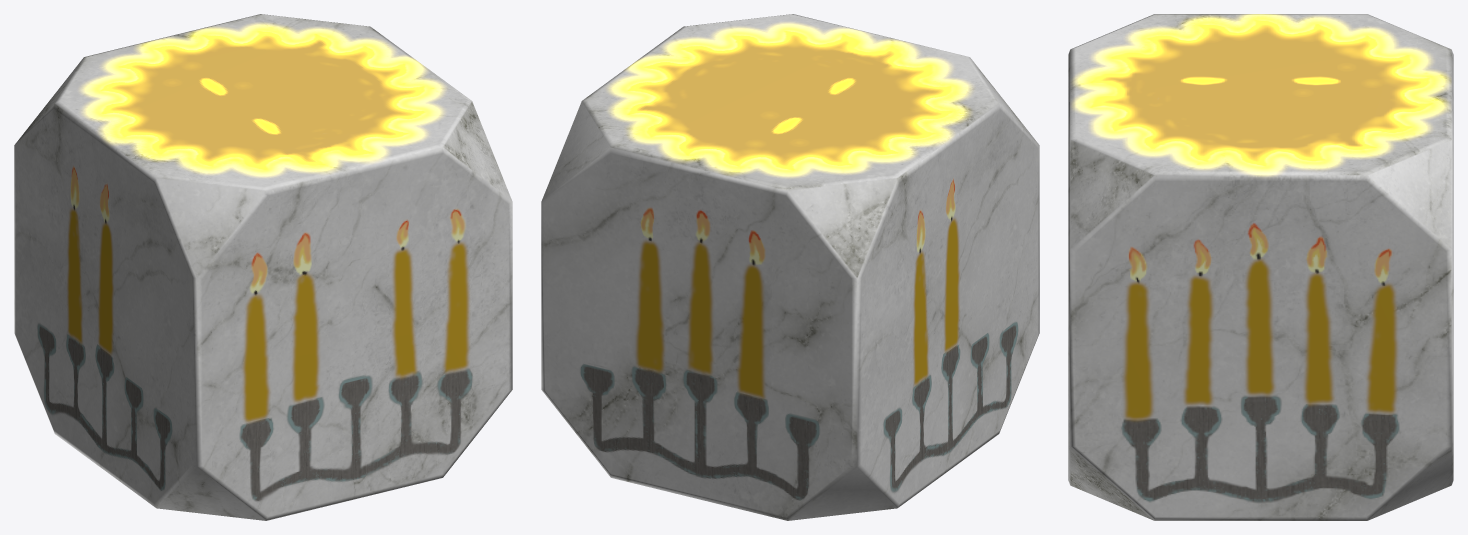
Rendered from safe_dice.glb.
3 views of the same model, side by side, from view 1: azimuth 30°, elevation 25°; view 2: azimuth 150°, elevation 25°; view 3: azimuth 270°, elevation 25° (orthographic). The views are drawn at different scales.
Visible parts, largest first — view 1: D6_low_st; view 2: D6_low_st; view 3: D6_low_st.
Boxes of the visible parts, x1=… form: D6_low_st: x1=14, y1=14, x2=512, y2=520; D6_low_st: x1=541, y1=14, x2=1039, y2=520; D6_low_st: x1=1068, y1=14, x2=1453, y2=520.
Size of the model in its own units: 104 by 104 by 104.
1 material, 1 textured.
